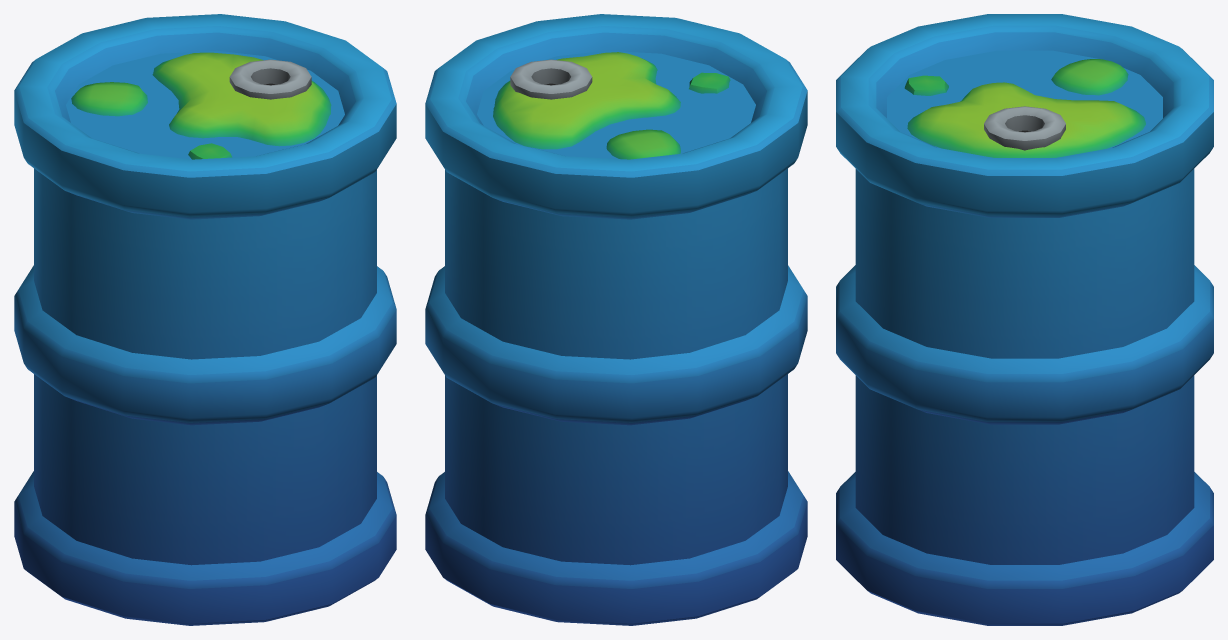
File: Fuel_C_Barrel_Dirty.glb
The picture shows the model from 3 angles, left to right: view 1: azimuth 30°, elevation 25°; view 2: azimuth 150°, elevation 25°; view 3: azimuth 270°, elevation 25°; orthographic projection.
Parts seen in each view (by area): view 1: Fuel_C_Barrel_Dirty; view 2: Fuel_C_Barrel_Dirty; view 3: Fuel_C_Barrel_Dirty.
Part boxes in pixels (left/top/right/bottom): Fuel_C_Barrel_Dirty: left=14, top=14, right=396, bottom=625; Fuel_C_Barrel_Dirty: left=425, top=14, right=807, bottom=625; Fuel_C_Barrel_Dirty: left=836, top=14, right=1213, bottom=625.
Bounding box in the file's own units: 0.75 × 1.01 × 0.75.
1 material, 1 textured.
